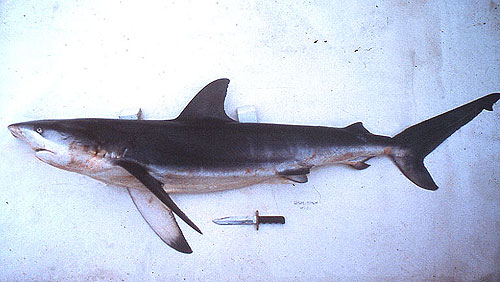fish: (5, 79, 497, 254)
